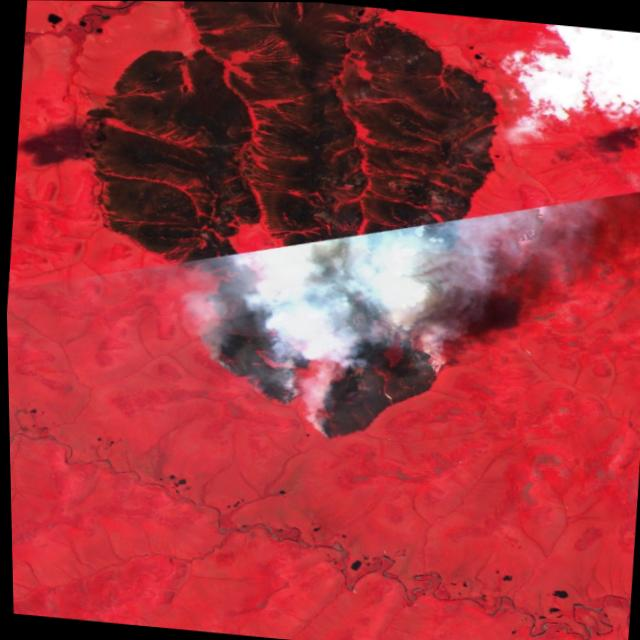fire: (195, 270, 455, 445)
